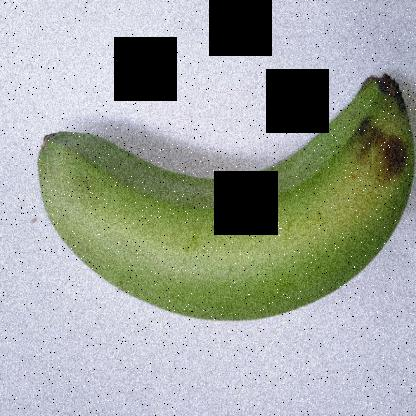freshunripe: (30, 66, 416, 338)
